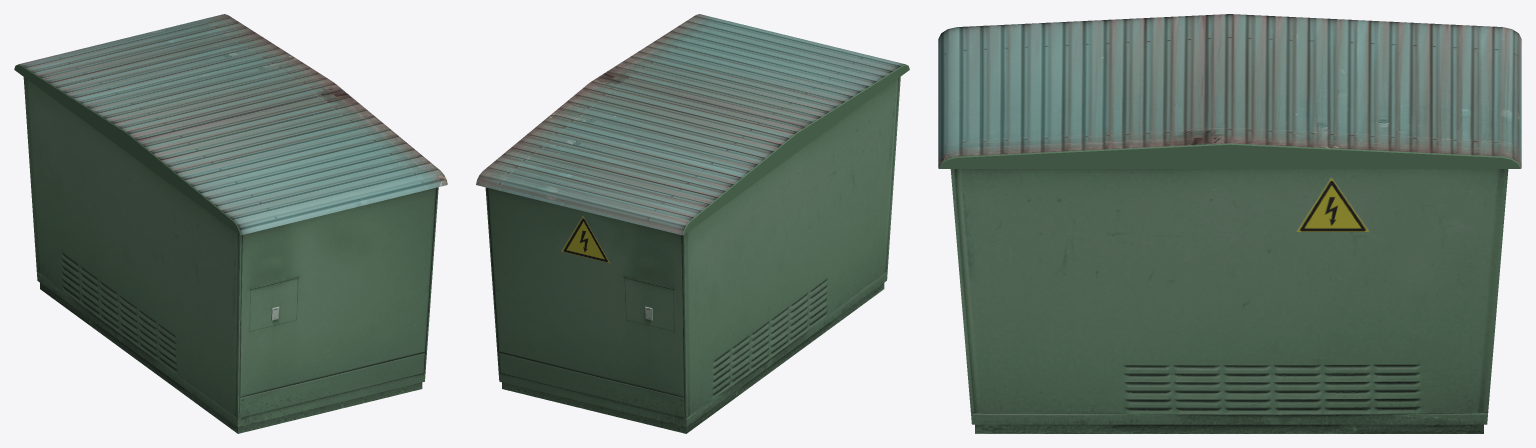
Rendered from TtransBox02.FBX.
3 views of the same model, side by side, from view 1: azimuth 30°, elevation 25°; view 2: azimuth 150°, elevation 25°; view 3: azimuth 270°, elevation 25° (orthographic). The views are drawn at different scales.
Visible parts, largest first — view 1: TtransBox02; view 2: TtransBox02; view 3: TtransBox02.
Part boxes in pixels (x1=…): TtransBox02: x1=14, y1=14, x2=447, y2=433; TtransBox02: x1=476, y1=14, x2=909, y2=433; TtransBox02: x1=938, y1=14, x2=1521, y2=433.
Bounding box in the file's own units: 103 × 109 × 194.
